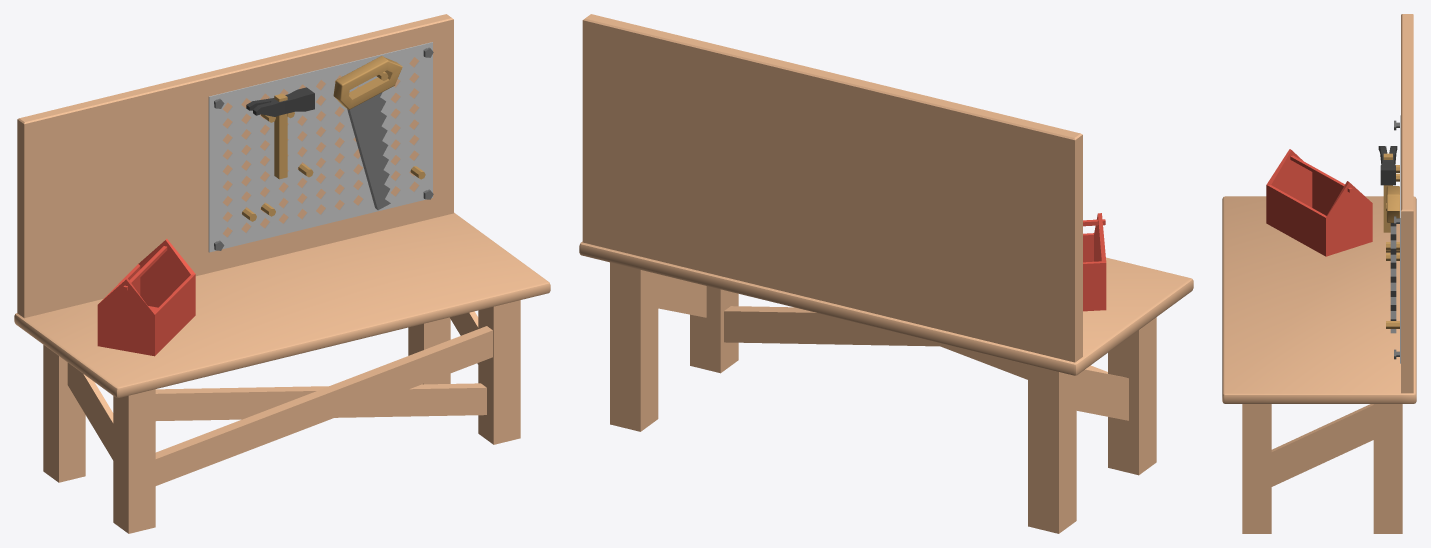
Rendered from Asset023_Bancadadetrabalho.fbx.
3 renders of one model, left to right at view 1: azimuth 30°, elevation 25°; view 2: azimuth 150°, elevation 25°; view 3: azimuth 270°, elevation 25°, orthographic. The views are drawn at different scales.
Parts seen in each view (by area): view 1: Bancada, Plane, Cube_9, Cube_8, Cube_1_2, Cube_5, Cube_2_3, Cube_4, Cube_2, Martelo, Cube_1, Cube_6 (+1 smaller); view 2: Bancada, Cube_4, Cube_3, Cube_5, Cube_8, Cube_2_3, Cube_6, Cube_1_2, Cube_7, Cube_9; view 3: Bancada, Cube_1_2, Cube_7, Cube_3, Cube_2_3, Martelo, Cube_2, Cube_1, Cube_2_2, Plane.
Part boxes in pixels (<box>): Bancada: <box>14,14,550,398</box>; Plane: <box>208,42,432,252</box>; Cube_9: <box>155,326,492,485</box>; Cube_8: <box>155,383,486,420</box>; Cube_1_2: <box>97,239,195,356</box>; Cube_5: <box>113,389,155,533</box>; Cube_2_3: <box>478,300,520,444</box>; Cube_4: <box>43,345,85,482</box>; Cube_2: <box>347,92,390,210</box>; Martelo: <box>246,87,314,179</box>; Cube_1: <box>333,56,402,109</box>; Cube_6: <box>67,363,113,460</box>; Bancada: <box>579,14,1193,375</box>; Cube_4: <box>1028,364,1076,533</box>; Cube_3: <box>610,262,658,431</box>; Cube_5: <box>1108,317,1156,475</box>; Cube_8: <box>724,306,954,346</box>; Cube_2_3: <box>690,286,738,373</box>; Cube_6: <box>1076,369,1128,420</box>; Cube_1_2: <box>1083,213,1106,311</box>; Cube_7: <box>658,274,706,317</box>; Cube_9: <box>940,346,1107,379</box>; Bancada: <box>1222,14,1416,403</box>; Cube_1_2: <box>1266,149,1372,256</box>; Cube_7: <box>1271,404,1373,486</box>; Cube_3: <box>1373,404,1402,533</box>; Cube_2_3: <box>1242,404,1271,533</box>; Martelo: <box>1378,146,1397,232</box>; Cube_2: <box>1390,223,1396,333</box>; Cube_1: <box>1386,186,1399,222</box>; Cube_2_2: <box>1290,155,1352,192</box>; Plane: <box>1400,115,1400,363</box>.
Size of the model in its own units: 376 by 292 by 155.
